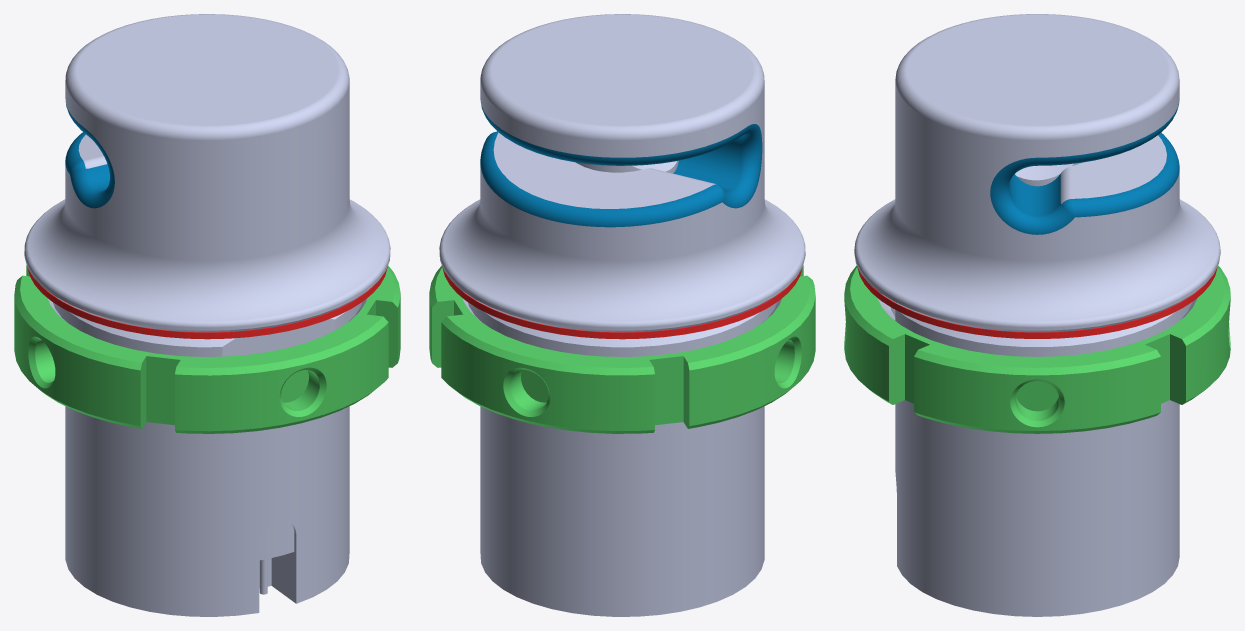
The model's file is npv3-1cp-05-24_with_color.glb.
The picture shows the model from 3 angles, left to right: view 1: azimuth 30°, elevation 25°; view 2: azimuth 150°, elevation 25°; view 3: azimuth 270°, elevation 25°; orthographic projection.
Parts seen in each view (by area): view 1: npv3-1cp-05-24; view 2: npv3-1cp-05-24; view 3: npv3-1cp-05-24.
Part boxes in pixels (x1,y1,x2,y2): npv3-1cp-05-24: (14, 14, 400, 616); npv3-1cp-05-24: (429, 14, 815, 616); npv3-1cp-05-24: (844, 14, 1230, 616).
Size of the model in its own units: 0.0431 by 0.06 by 0.0431.
